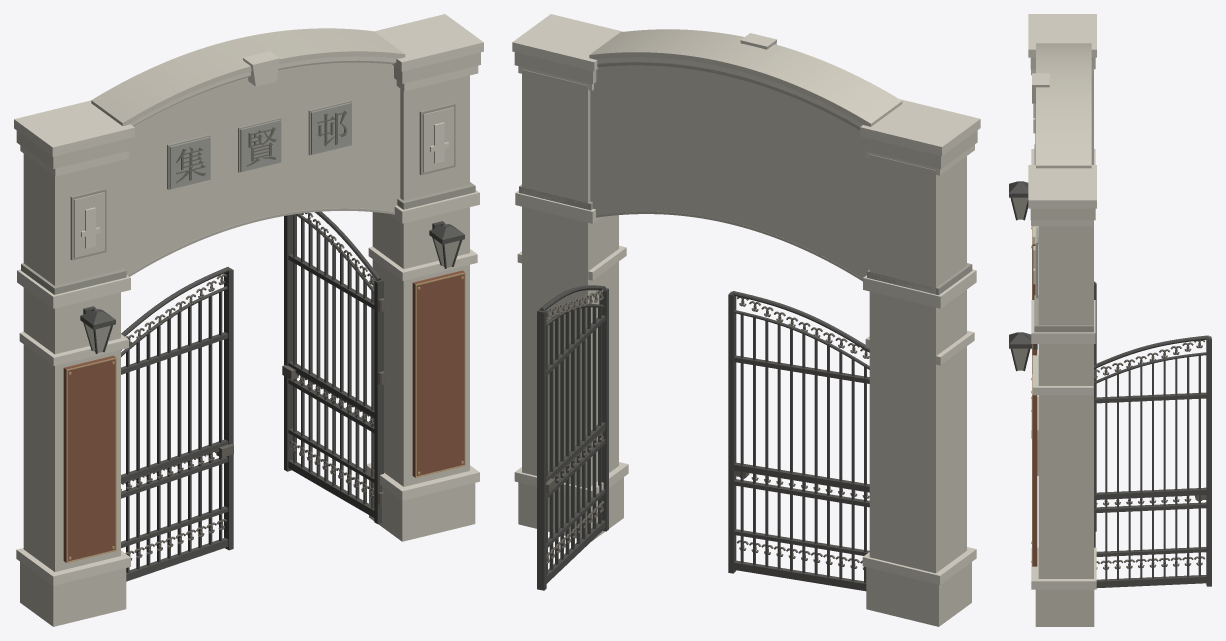
The model's file is huangpu-jixian-terrace-jintan-gate-raw.glb.
3 renders of one model, left to right at view 1: azimuth 30°, elevation 25°; view 2: azimuth 150°, elevation 25°; view 3: azimuth 270°, elevation 25°, orthographic. The views are drawn at different scales.
Visible parts, largest first — view 1: 集贤村金坛路35弄南弄口; view 2: 集贤村金坛路35弄南弄口; view 3: 集贤村金坛路35弄南弄口.
Part boxes in pixels (x1=…): 集贤村金坛路35弄南弄口: x1=14, y1=14, x2=483, y2=626; 集贤村金坛路35弄南弄口: x1=512, y1=14, x2=980, y2=626; 集贤村金坛路35弄南弄口: x1=1009, y1=14, x2=1211, y2=626.
Bounding box in the file's own units: 4.88 × 5.57 × 2.24.
